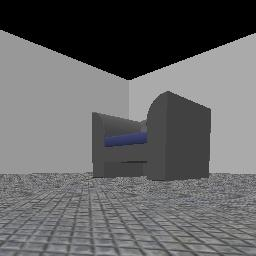fotoliu: (93, 91, 209, 180)
